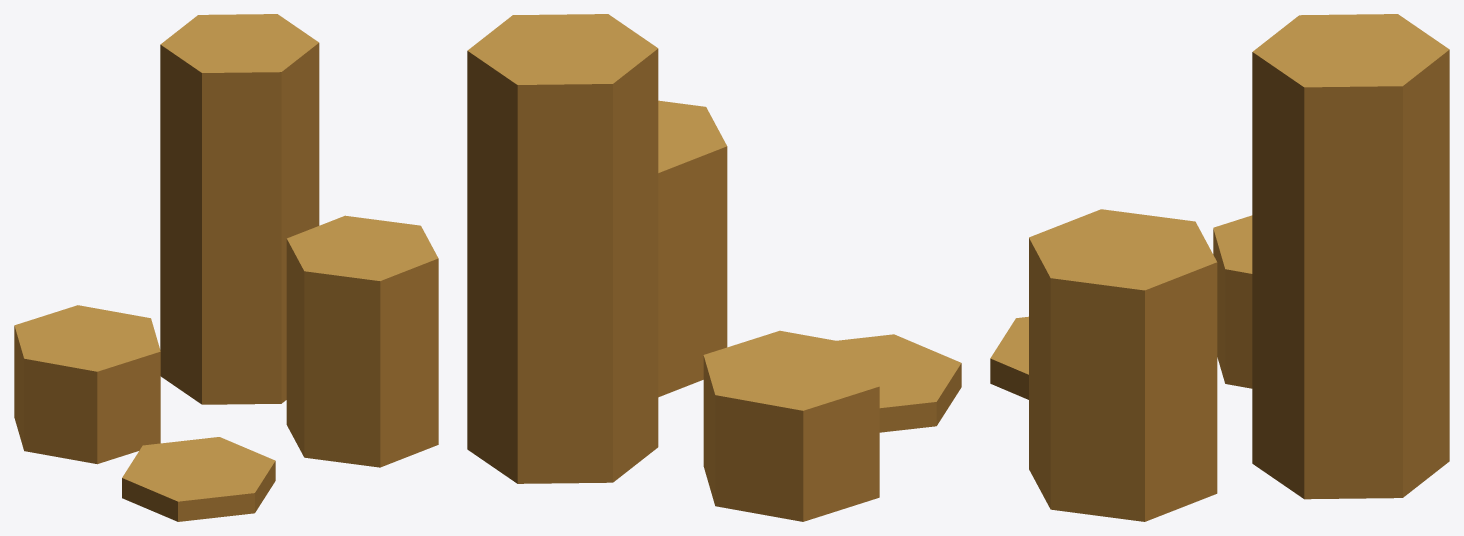
File: SD_Prop_Coin_03.fbx
3 renders of one model, left to right at view 1: azimuth 30°, elevation 25°; view 2: azimuth 150°, elevation 25°; view 3: azimuth 270°, elevation 25°, orthographic. The views are drawn at different scales.
Visible parts, largest first — view 1: SD_Prop_Coin_03; view 2: SD_Prop_Coin_03; view 3: SD_Prop_Coin_03.
Part boxes in pixels (bbox=[...]): SD_Prop_Coin_03: bbox=[14, 14, 438, 521]; SD_Prop_Coin_03: bbox=[467, 14, 961, 521]; SD_Prop_Coin_03: bbox=[990, 14, 1449, 521].
Size of the model in its own units: 0.4414 by 0.4145 by 0.419.
